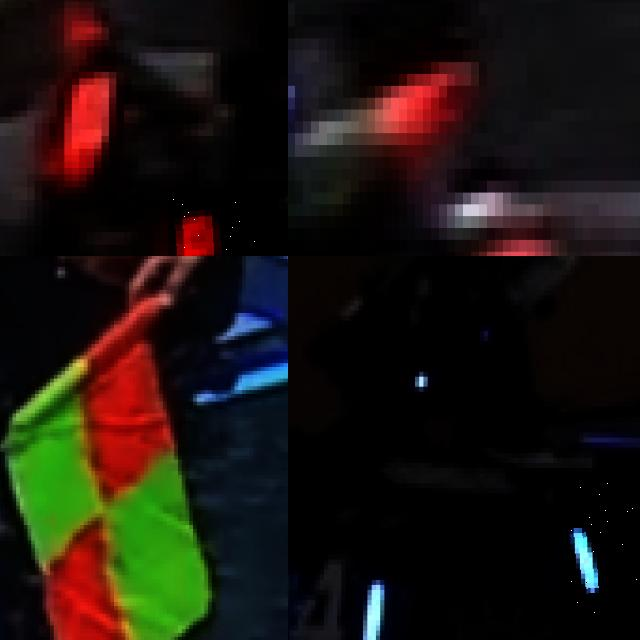B3: (562, 478, 640, 615)
B4: (288, 549, 384, 640)
R1: (168, 187, 288, 256)
